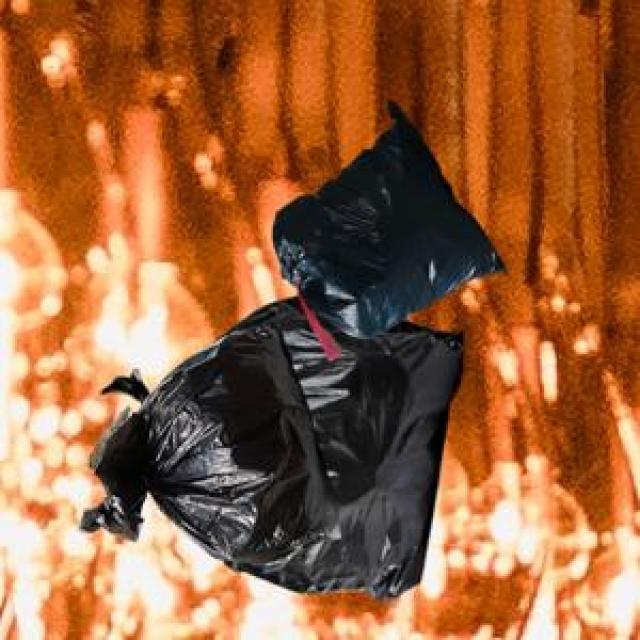waste: (81, 104, 502, 597)
